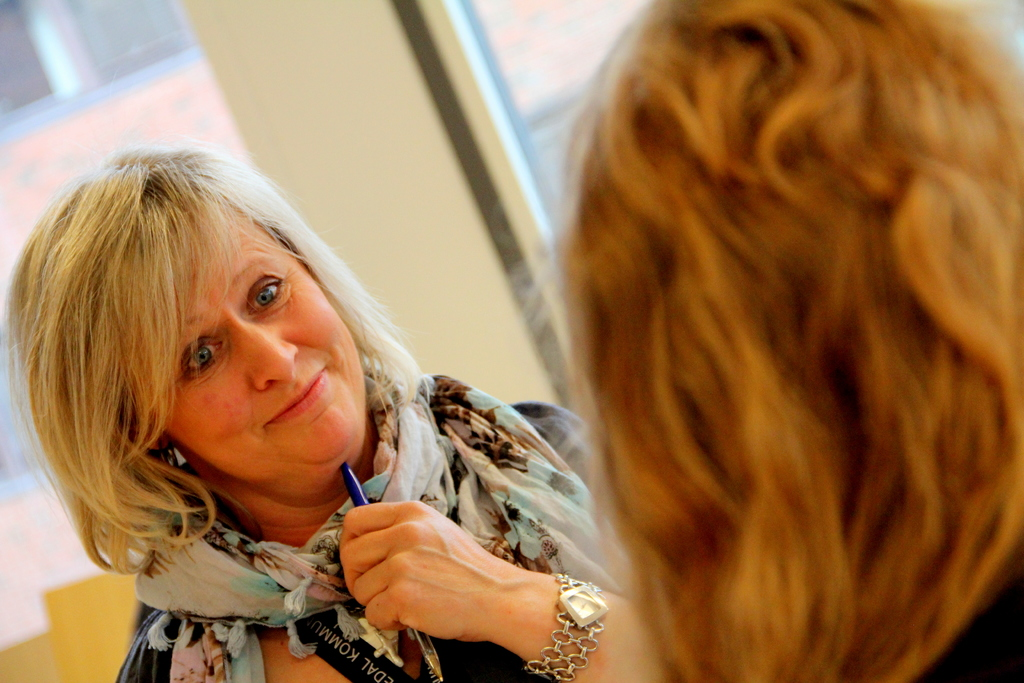Person: (550, 0, 1024, 683)
